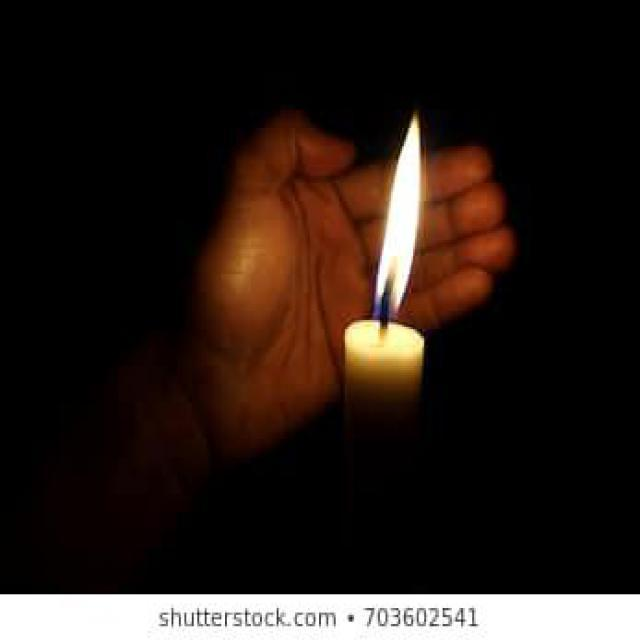Fire: (374, 114, 422, 327)
